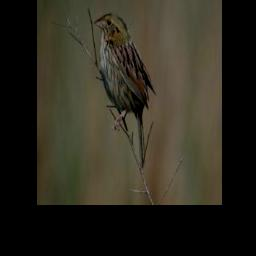Sparrow: (93, 11, 155, 169)
